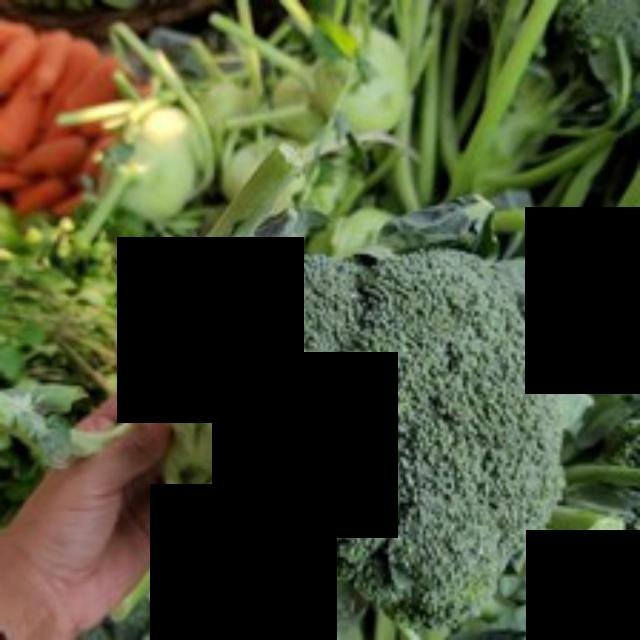broccoli: (221, 230, 584, 630)
